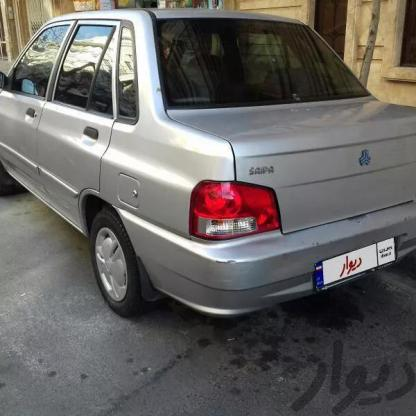Car: (0, 0, 416, 318)
